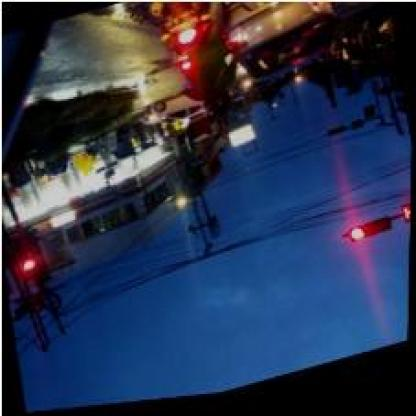red: (349, 224, 395, 249), (13, 233, 38, 276)
